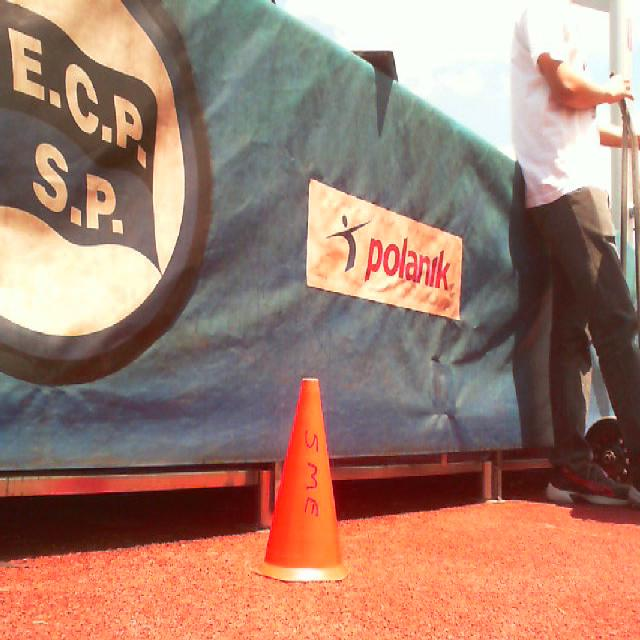cone: (250, 377, 350, 583)
